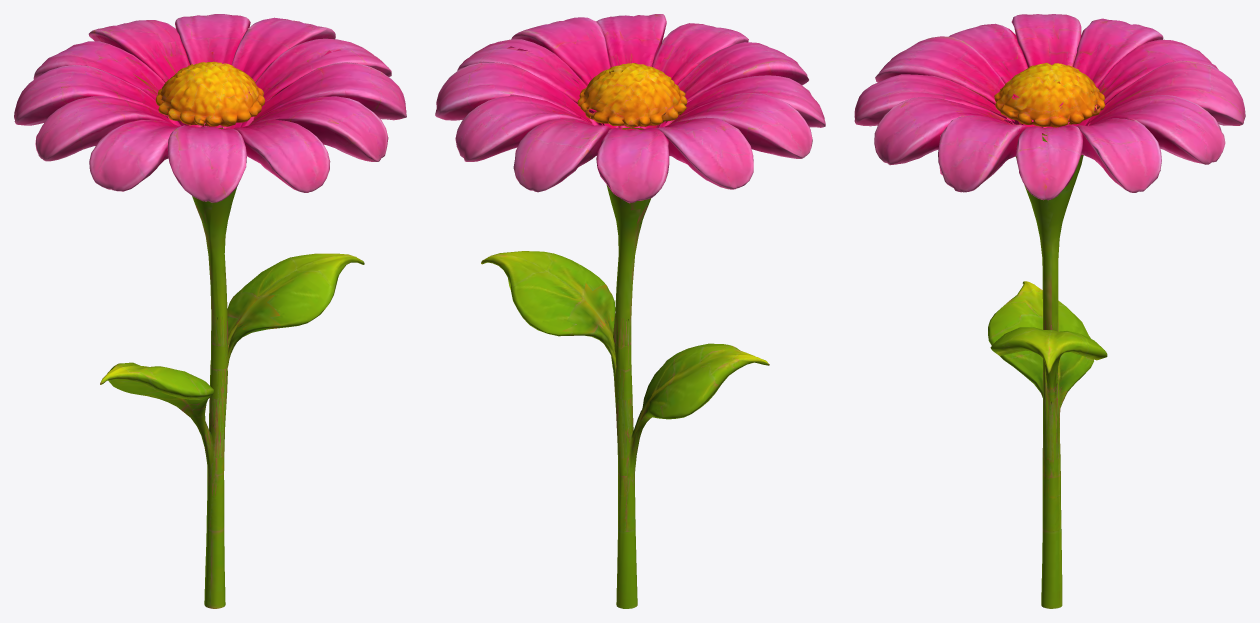
The model's file is daisy_pink.glb.
3 views of the same model, side by side, from view 1: azimuth 30°, elevation 25°; view 2: azimuth 150°, elevation 25°; view 3: azimuth 270°, elevation 25° (orthographic).
Visible parts, largest first — view 1: geometry_0; view 2: geometry_0; view 3: geometry_0.
Part boxes in pixels (bbox=[...]): geometry_0: bbox=[14, 14, 406, 608]; geometry_0: bbox=[435, 14, 825, 608]; geometry_0: bbox=[854, 14, 1245, 608].
Size of the model in its own units: 0.6353 by 0.9512 by 0.6309.
1 material, 1 textured.
